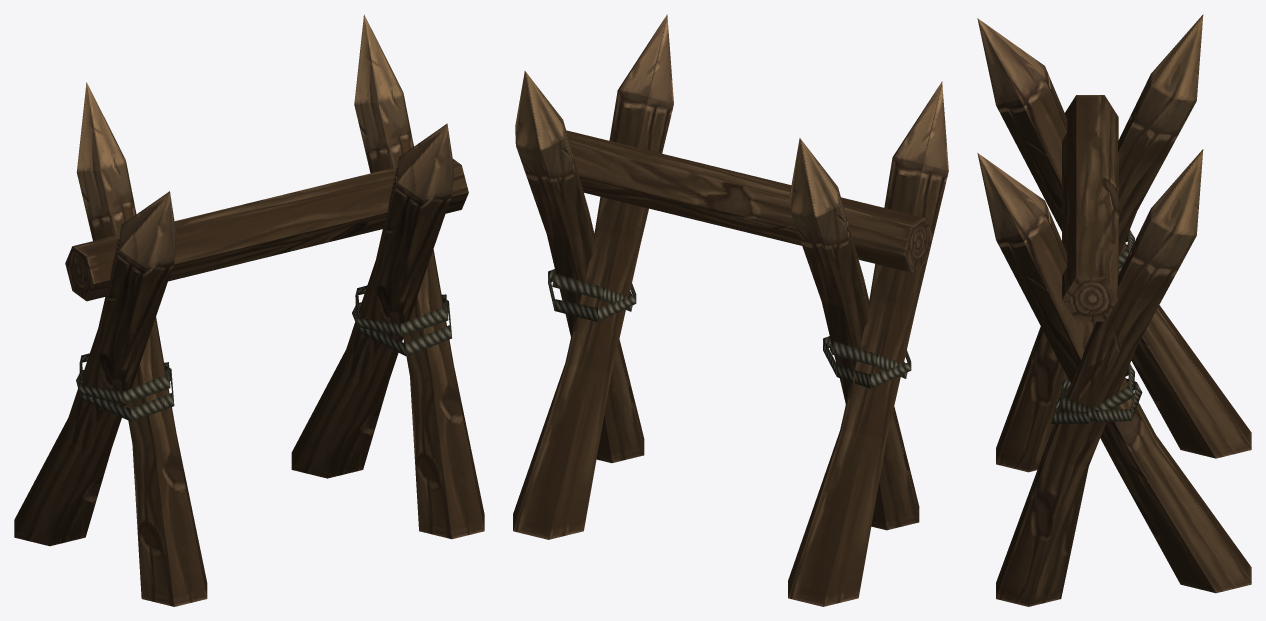
Rendered from scaffolding_01.fbx.
The picture shows the model from 3 angles, left to right: view 1: azimuth 30°, elevation 25°; view 2: azimuth 150°, elevation 25°; view 3: azimuth 270°, elevation 25°; orthographic projection.
Parts seen in each view (by area): view 1: scaffolding_01; view 2: scaffolding_01; view 3: scaffolding_01.
Part boxes in pixels (left/top/right/bottom): scaffolding_01: left=14, top=14, right=484, bottom=606; scaffolding_01: left=513, top=14, right=948, bottom=606; scaffolding_01: left=977, top=14, right=1251, bottom=606.
Size of the model in its own units: 265 by 299 by 168.
